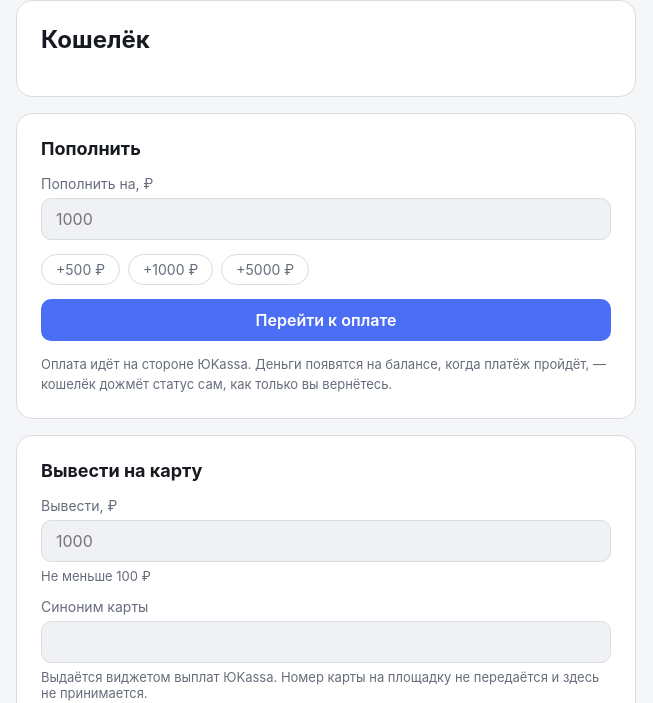
Test: не отправляет запрос, пока сумма не похожа на число
The image size is (653, 703).
Type "тысяча" into the field labelled "Пополнить на, ₽" at (326, 219), box [41,198,611,240]
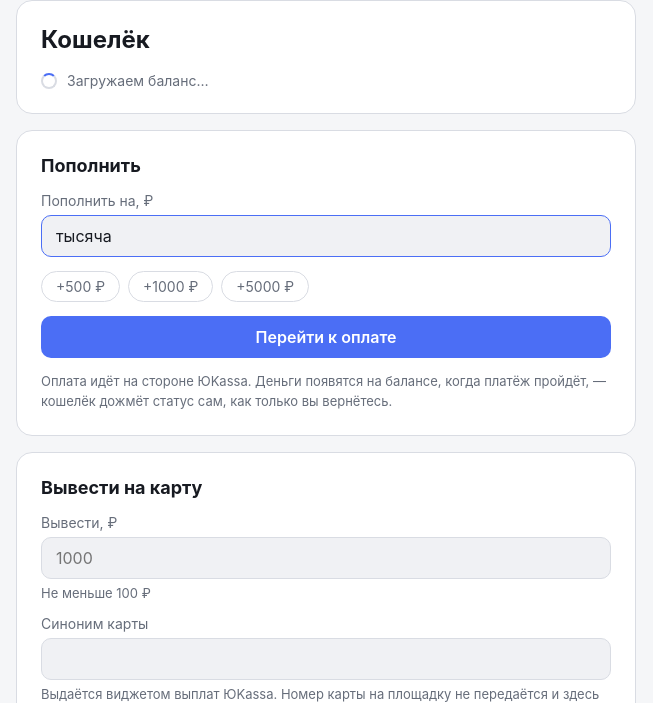
Click the button "Перейти к оплате" at (326, 337), box [41,316,611,358]
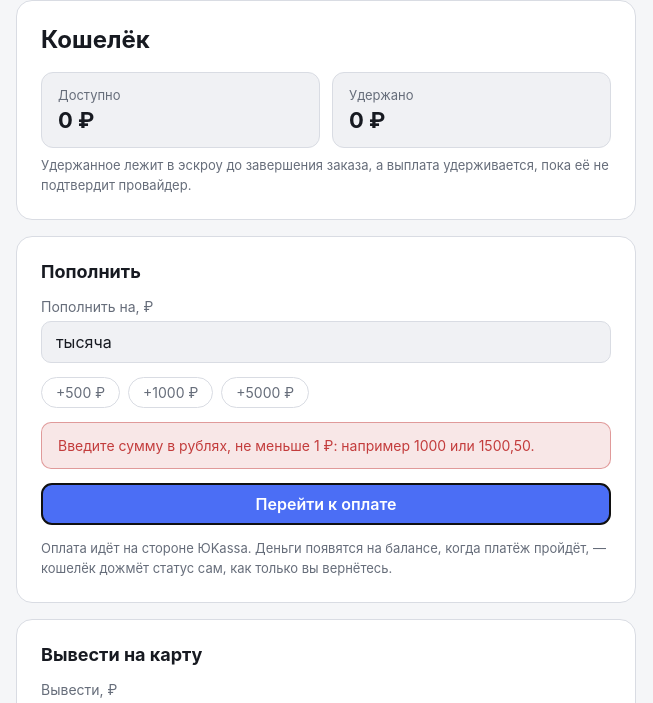
Result: the message shows "Введите сумму в рублях" at [58,437,535,454]
